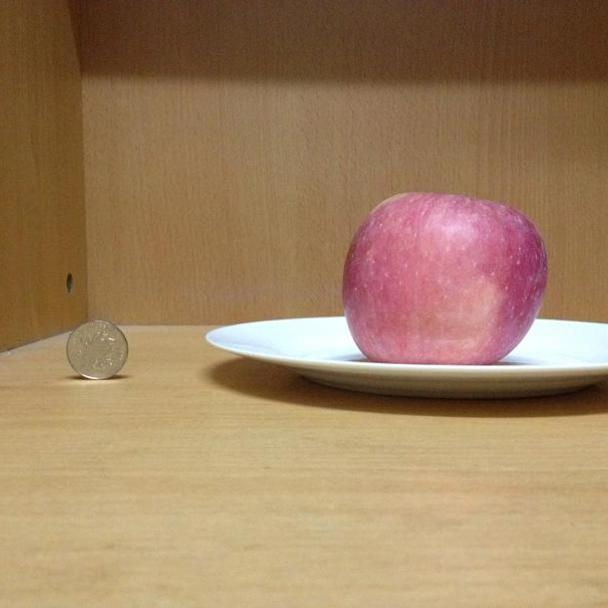apple: (338, 186, 551, 366)
